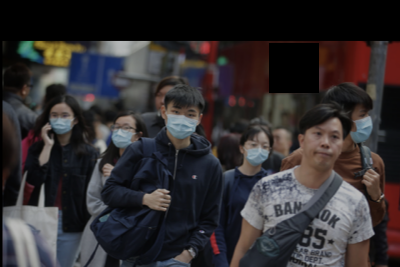with_mask: (166, 104, 200, 140), (352, 107, 374, 145), (47, 109, 75, 136), (245, 136, 269, 167), (111, 120, 136, 149)
without_mask: (305, 124, 341, 170)
